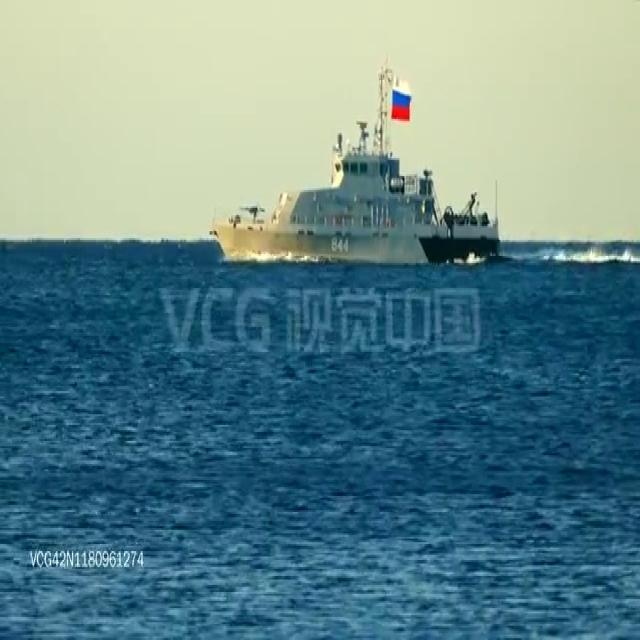houseboat: (211, 71, 499, 270)
